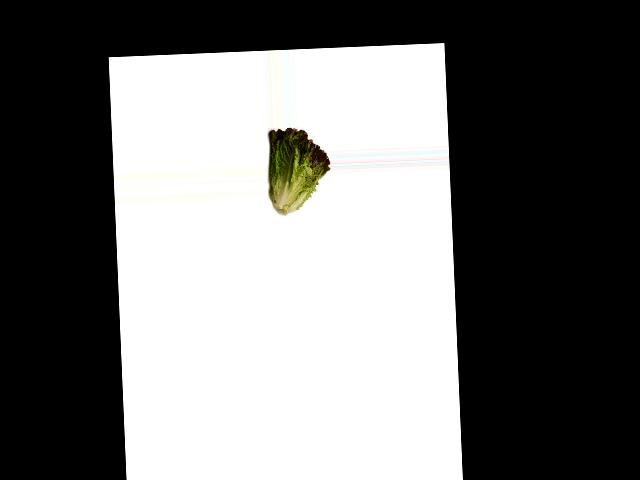lettuce: (267, 124, 330, 214)
